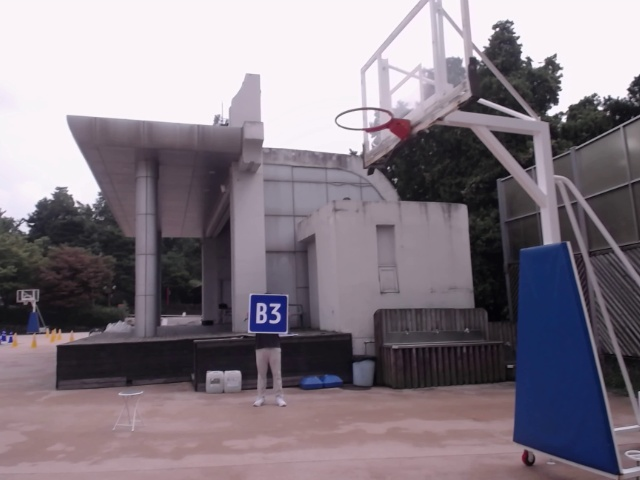delivery_b3: (248, 294, 288, 333)
